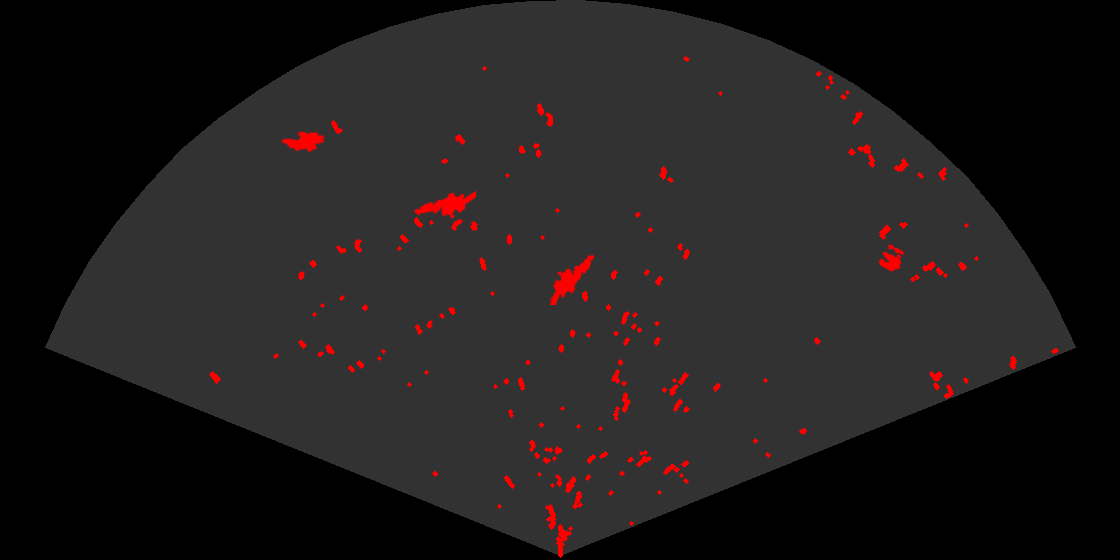AUV: (279, 130, 327, 154)
ball: (877, 243, 906, 273)
frogman: (548, 242, 598, 305), (413, 189, 476, 220)
